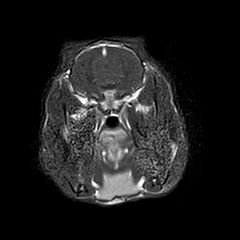Brain: (58, 20, 157, 118)
